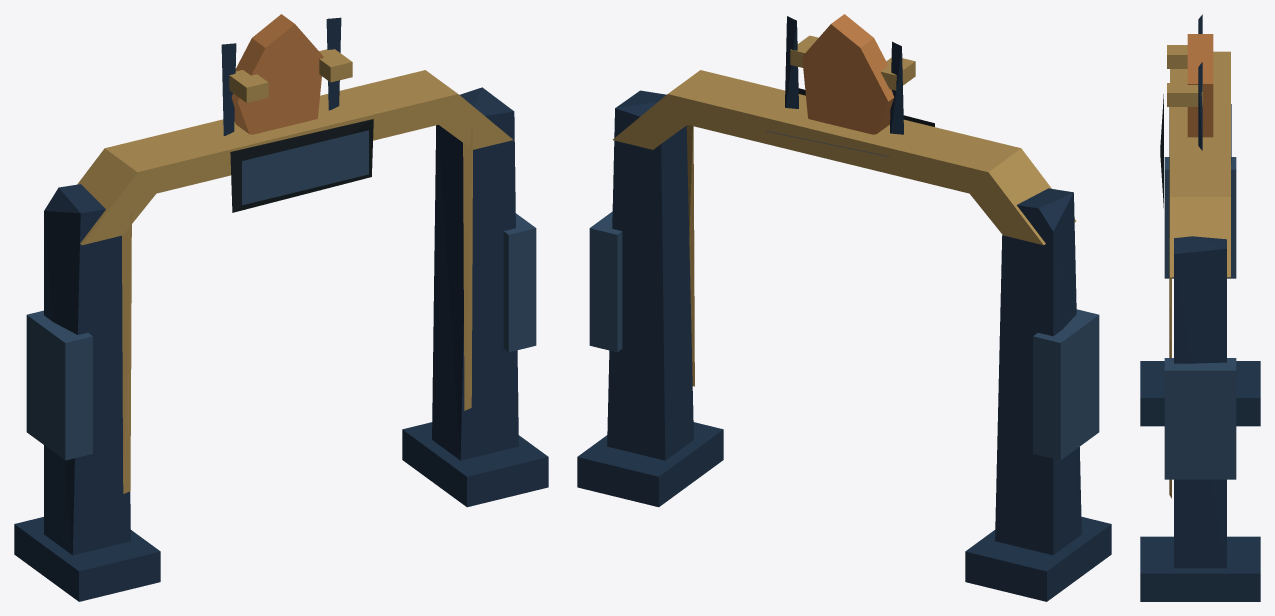
Rendered from FIRE_RATE_CELL_GATE.shadow.glb.
3 views of the same model, side by side, from view 1: azimuth 30°, elevation 25°; view 2: azimuth 150°, elevation 25°; view 3: azimuth 270°, elevation 25° (orthographic). The views are drawn at different scales.
Parts seen in each view (by area): view 1: Body_Mesh, SignSurface; view 2: Body_Mesh; view 3: Body_Mesh.
Part boxes in pixels (x1,y1,x2,y2): Body_Mesh: (14, 14, 548, 601); SignSurface: (242, 130, 368, 205); Body_Mesh: (577, 14, 1111, 601); Body_Mesh: (1140, 14, 1260, 601).
Size of the model in its own units: 3.23 by 3.28 by 0.77.
